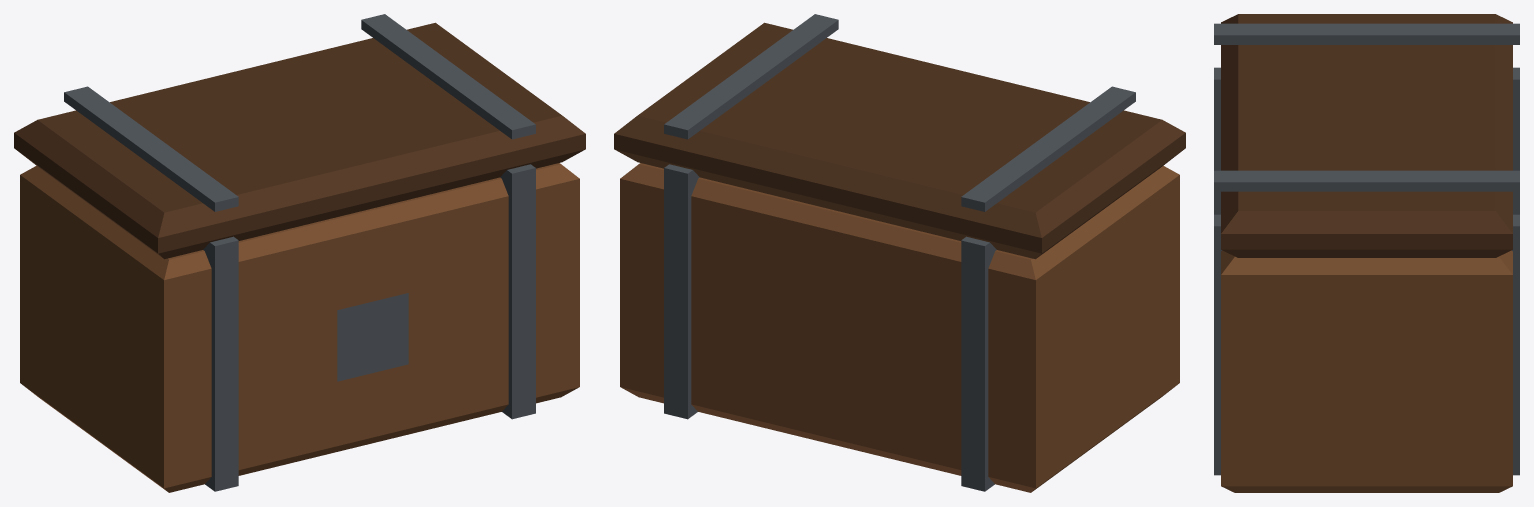
File: chest.fbx
3 renders of one model, left to right at view 1: azimuth 30°, elevation 25°; view 2: azimuth 150°, elevation 25°; view 3: azimuth 270°, elevation 25°, orthographic.
Visible parts, largest first — view 1: chest, Lid; view 2: chest, Lid; view 3: chest, Lid.
Part boxes in pixels (box(x1,y1,x2,y2)): chest: box(20, 163, 579, 492); Lid: box(14, 14, 585, 259); chest: box(620, 163, 1179, 492); Lid: box(614, 14, 1185, 259); chest: box(1214, 67, 1519, 492); Lid: box(1214, 14, 1519, 257).
Size of the model in its own units: 1.44 by 0.93 by 0.88.
